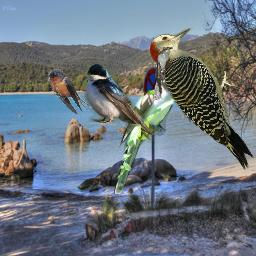Cuckoo: (114, 77, 190, 194), (153, 46, 173, 100)
Swallow: (84, 63, 156, 144), (48, 69, 92, 114)
Woodpecker: (146, 28, 255, 170)
